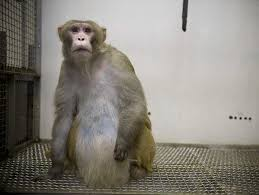monkey: (0, 8, 206, 174)
